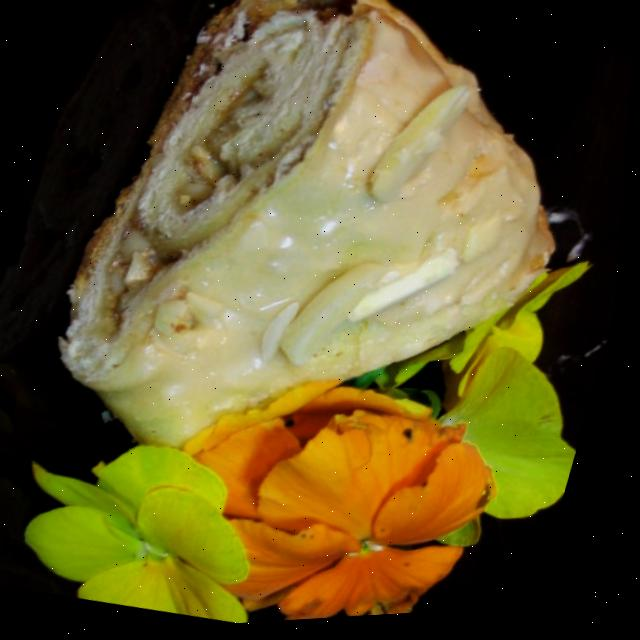三明治: (33, 0, 633, 425)
